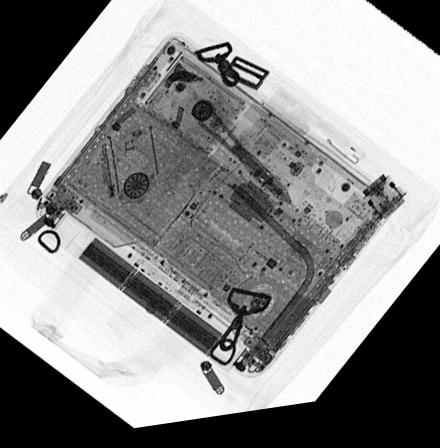Scissors: (192, 106, 294, 216)
